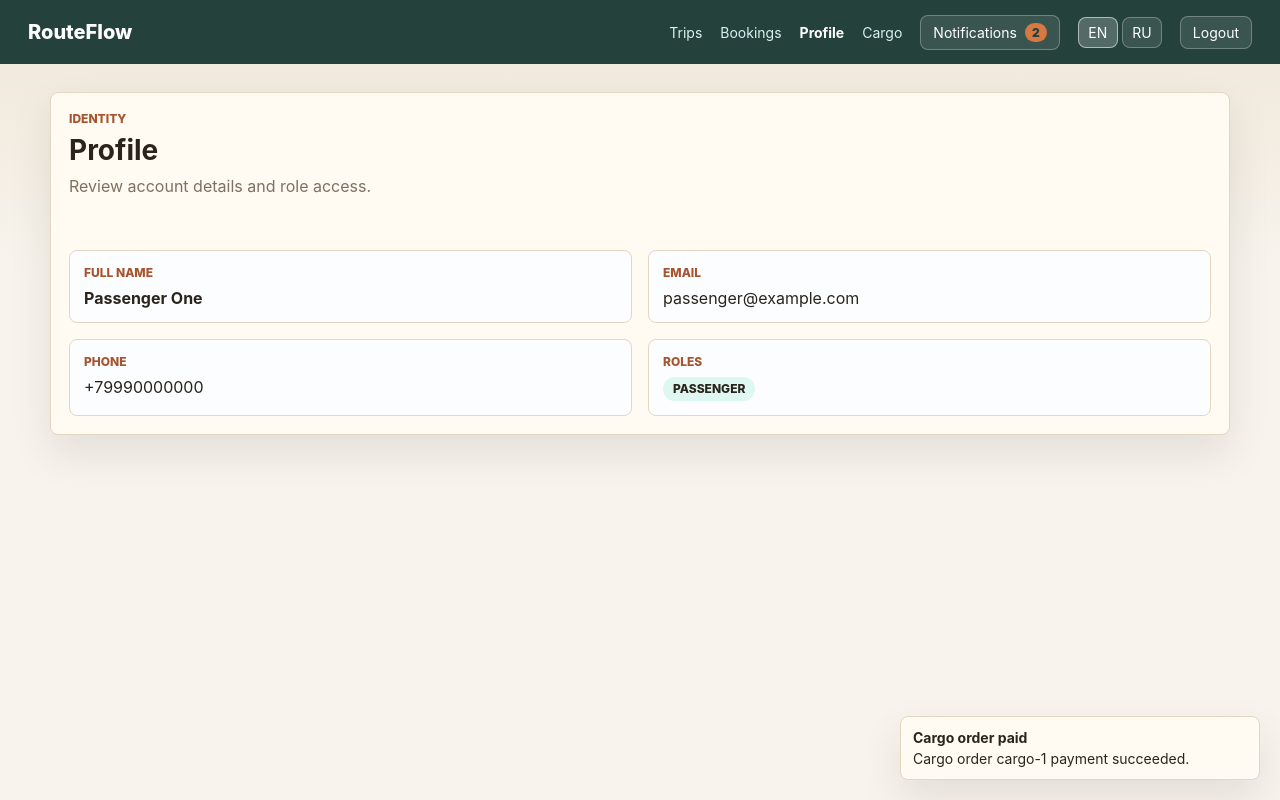
App routes › logs out and redirects to login
Step 1. Click the button "Logout" → click(1216, 32), box [1180, 16, 1252, 48]
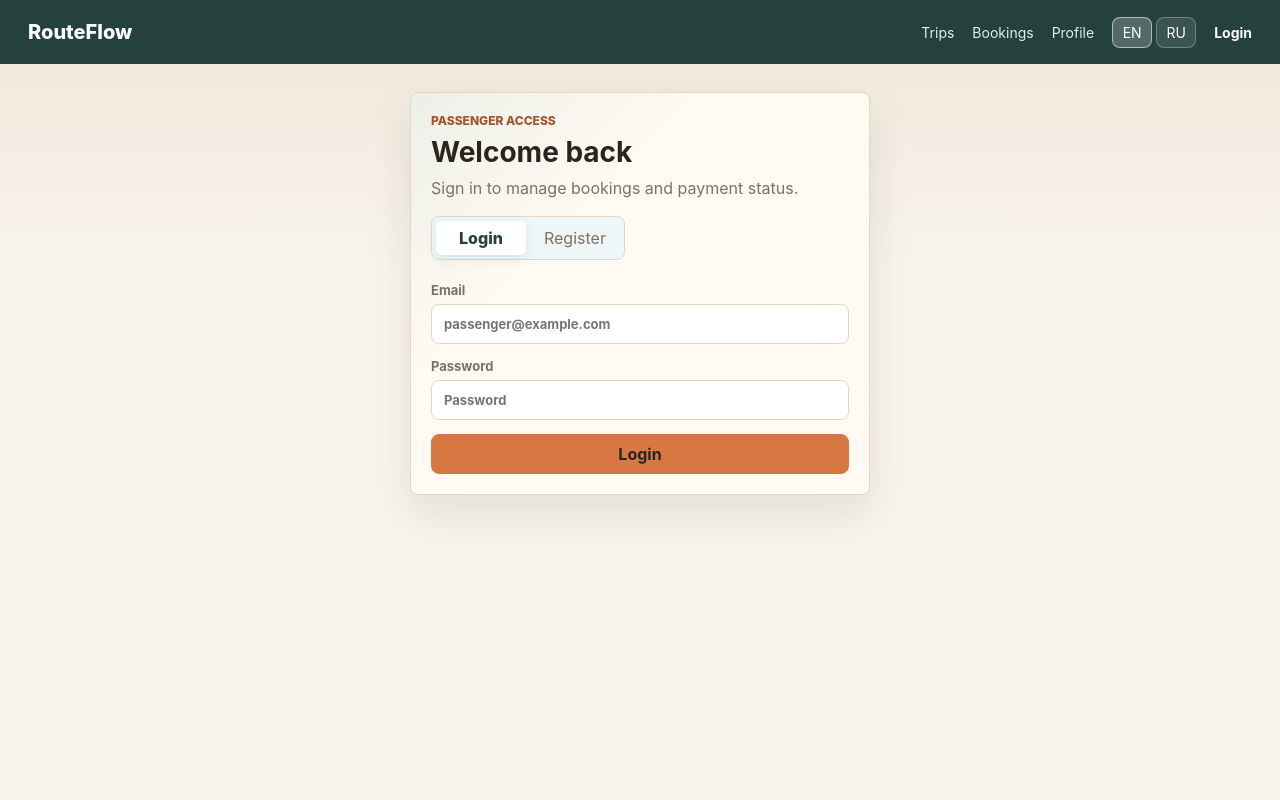
Expected: the heading "Welcome back" is shown, [431, 135, 632, 169]
